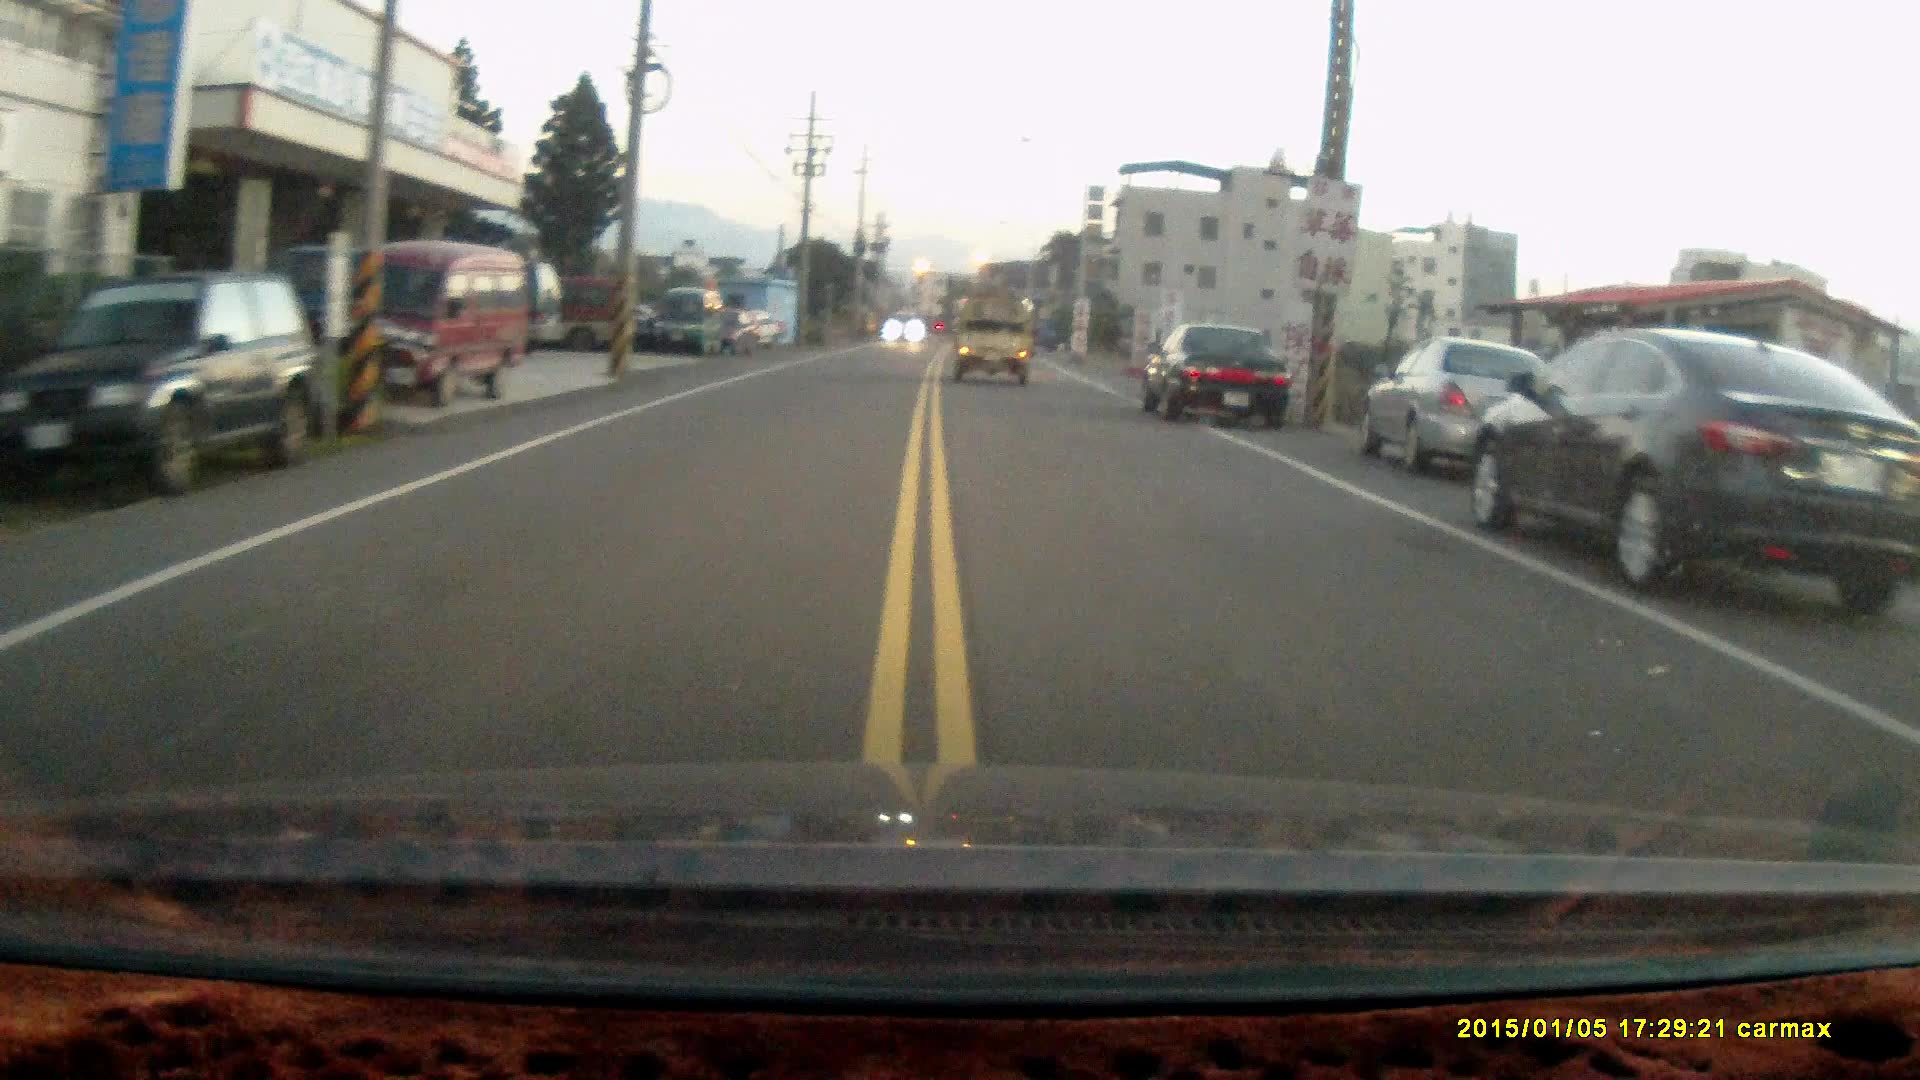vehicle: (1466, 328, 1919, 609), (1, 276, 334, 487), (305, 240, 531, 400), (1358, 330, 1565, 475), (1135, 318, 1294, 429), (957, 293, 1040, 382), (654, 284, 727, 351)
